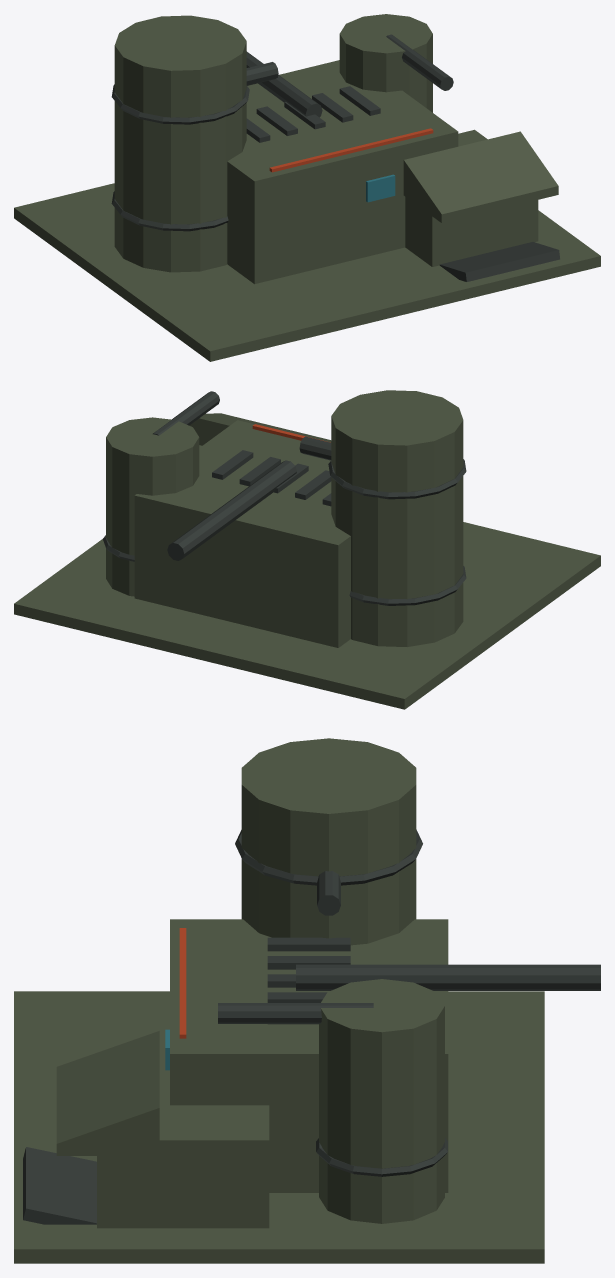
The model's file is Bastion_Refinery_Base.obj.
3 views of the same model, one above another, from view 1: azimuth 30°, elevation 25°; view 2: azimuth 150°, elevation 25°; view 3: azimuth 270°, elevation 25° (orthographic). The views are drawn at different scales.
Visible parts, largest first — view 1: Bastion_Refinery_Base; view 2: Bastion_Refinery_Base; view 3: Bastion_Refinery_Base.
Part boxes in pixels (<box>): Bastion_Refinery_Base: <box>14,14,600,361</box>; Bastion_Refinery_Base: <box>14,390,600,709</box>; Bastion_Refinery_Base: <box>14,738,600,1263</box>.
Bounding box in the file's own units: 9.2 × 4.78 × 8.85.
1 material, 1 textured.
